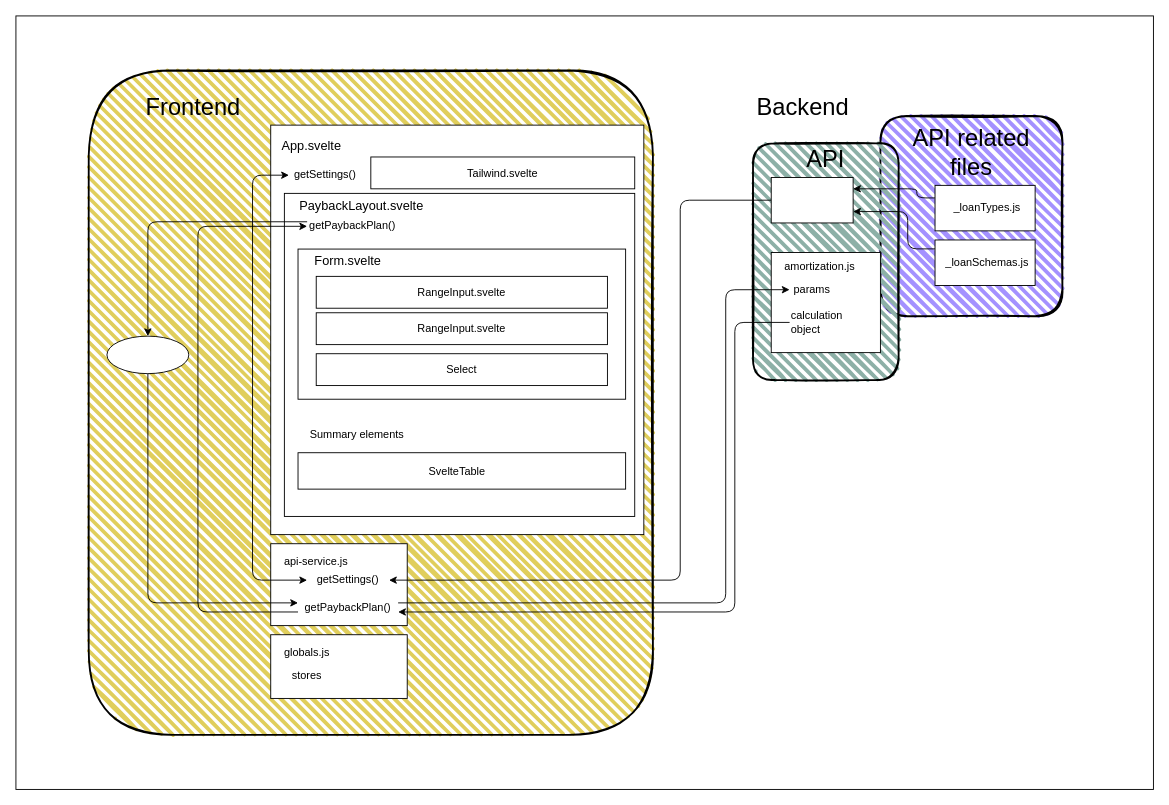
Image size: 1169x805. Some labels were removed from this diagram. Here are the shapes that lost their labels. From the top down, the centre of each, then its label:
At point 811,200: "settings.js".
At point 147,354: "schema name".
